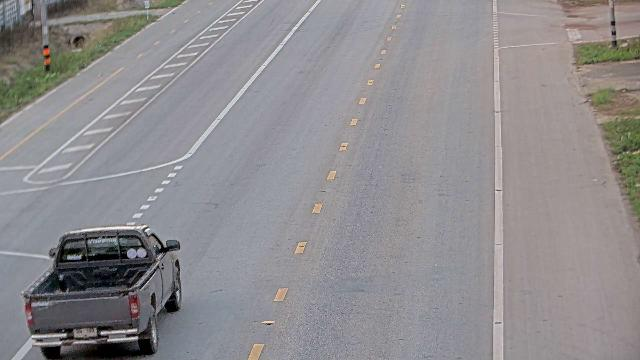pickup-truck: (21, 223, 183, 358)
